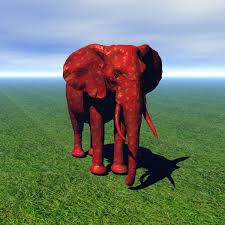strawberry-elephant: (62, 45, 163, 187)
